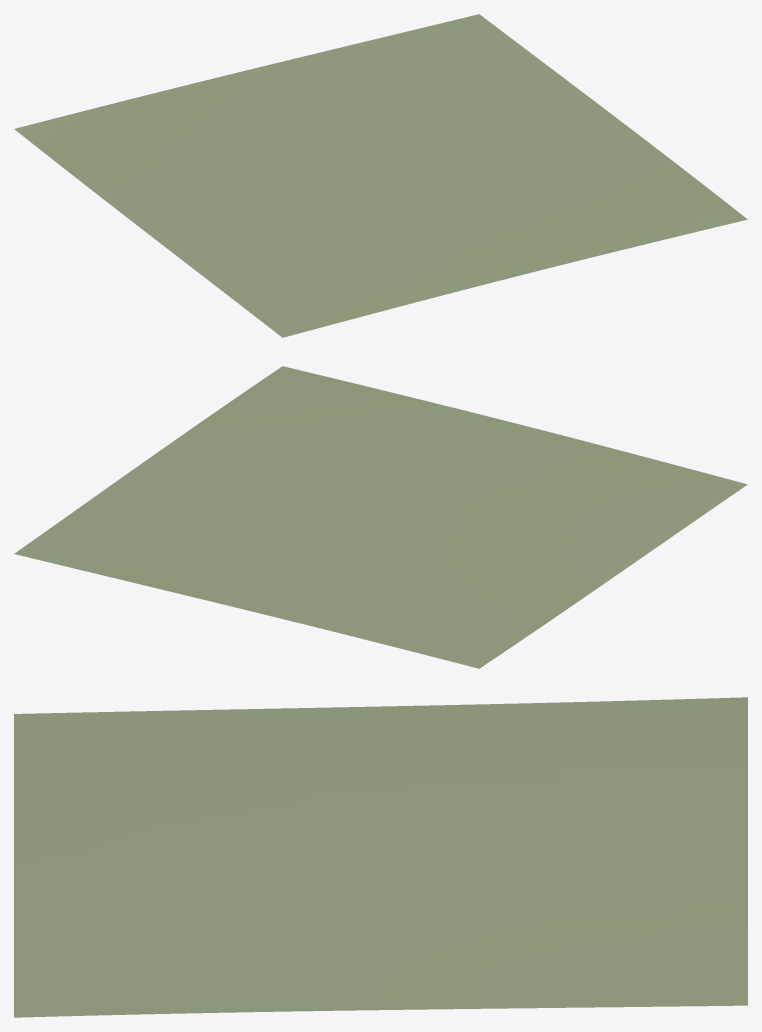
Rendered from expanse-5-3.glb.
3 views of the same model, one above another, from view 1: azimuth 30°, elevation 25°; view 2: azimuth 150°, elevation 25°; view 3: azimuth 270°, elevation 25° (orthographic). The views are drawn at different scales.
Visible parts, largest first — view 1: expanse-5-3; view 2: expanse-5-3; view 3: expanse-5-3.
Boxes of the visible parts, x1=… form: expanse-5-3: x1=14, y1=14, x2=747, y2=337; expanse-5-3: x1=14, y1=366, x2=747, y2=668; expanse-5-3: x1=14, y1=697, x2=747, y2=1017.
Size of the model in its own units: 256 by 7.42 by 256.
